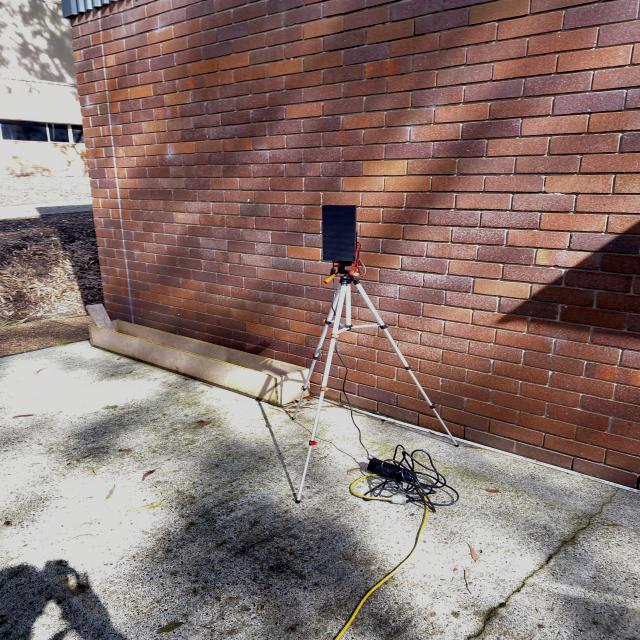matrix: (315, 201, 361, 266)
